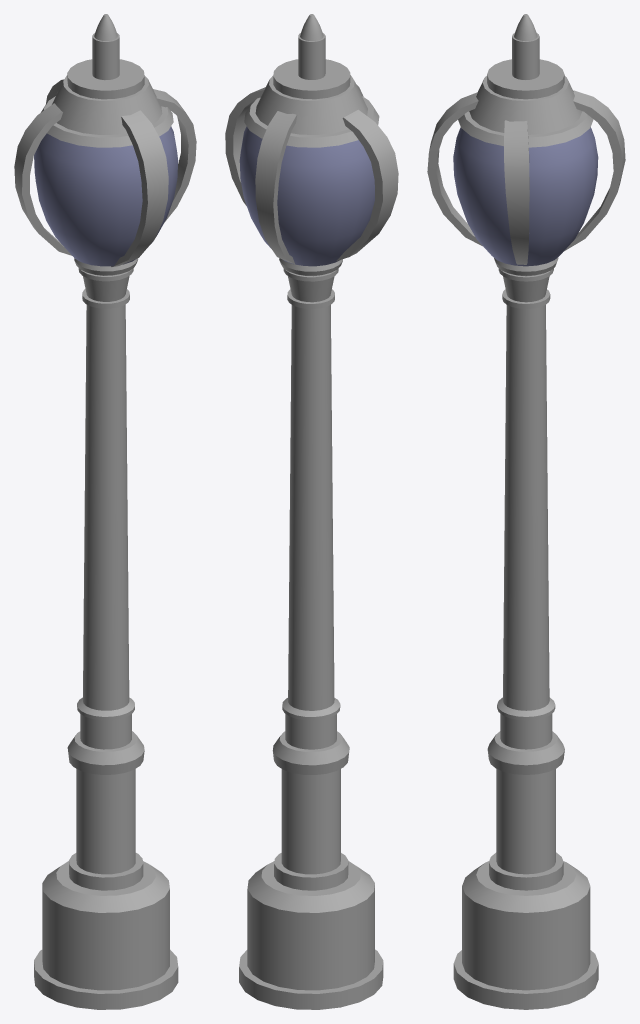
The model's file is lamp.fbx.
The picture shows the model from 3 angles, left to right: view 1: azimuth 30°, elevation 25°; view 2: azimuth 150°, elevation 25°; view 3: azimuth 270°, elevation 25°; orthographic projection.
Visible parts, largest first — view 1: polySurface59; view 2: polySurface59; view 3: polySurface59.
Part boxes in pixels (x1,y1,x2,y2): polySurface59: [14, 14, 196, 1009]; polySurface59: [225, 14, 398, 1009]; polySurface59: [427, 14, 625, 1009].
Bounding box in the file's own units: 2.42 × 13.15 × 2.45.
